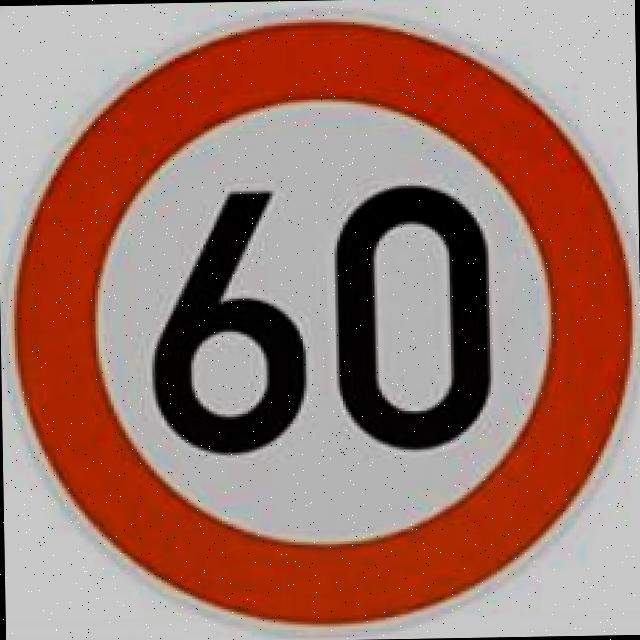Ograniczenie predkosci do 60: (3, 8, 629, 629)
